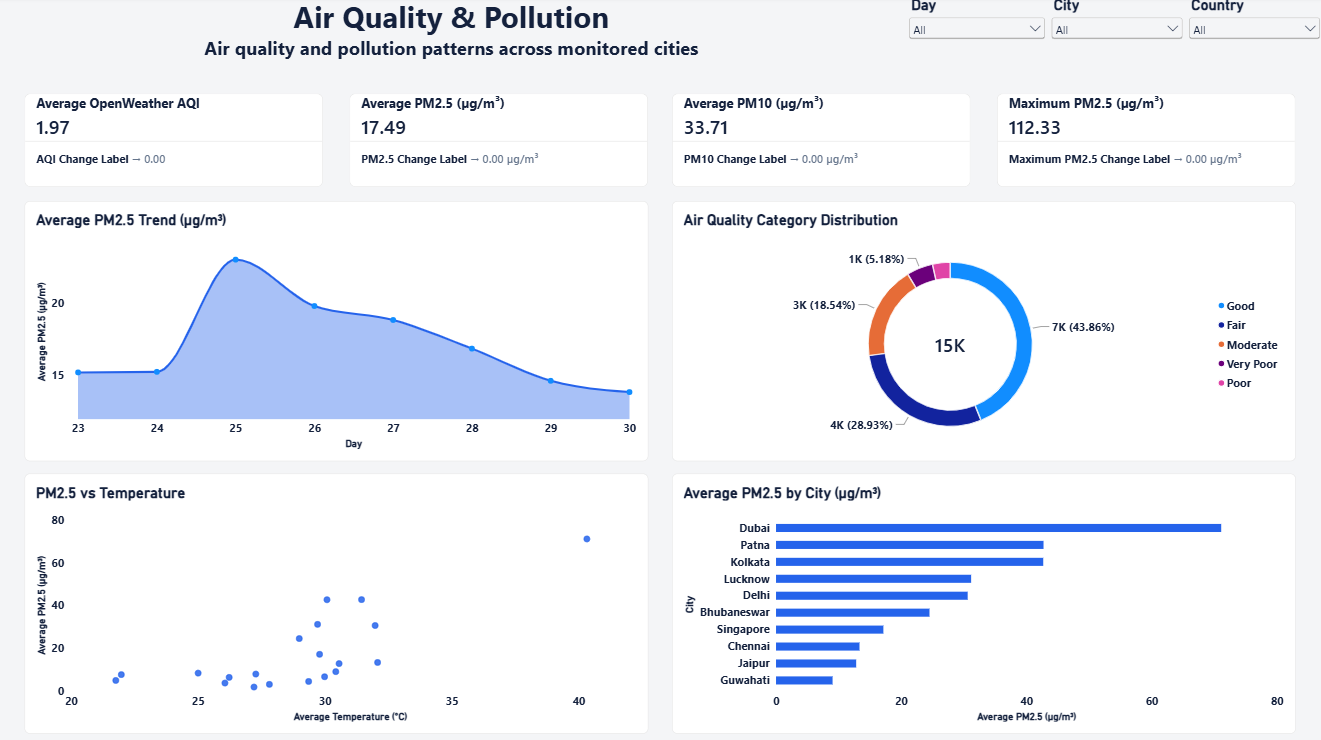

The dashboard page shown, as its layout file describes it:
{"tool":"powerbi","page":{"name":"Air Quality & Pollution","canvas":[1920,1080],"ordinal":2},"visuals":[{"type":"textbox","box":[0,0,1315.6,119.4],"z":0},{"type":"cardVisual","fields":{"Data":["measures table.Average AQI"]},"box":[39.8,141.2,432.5,135.7],"z":1000},{"type":"cardVisual","fields":{"Data":["measures table.Average PM2.5"]},"box":[510.3,141.2,432.5,135.7],"z":2000},{"type":"cardVisual","fields":{"Data":["measures table.Average PM10"]},"box":[977.2,141.2,432.5,135.7],"z":3000},{"type":"cardVisual","fields":{"Data":["measures table.Maximum PM2.5"]},"box":[1447.7,141.2,432.5,135.7],"z":4000},{"type":"lineChart","title":"Average PM2.5 Trend (µg/m³)","fields":{"Category":["gold dim_date.full_date.Variation.Date Hierarchy.Day"],"Y":["measures table.Average PM2.5"]},"box":[39.8,296.8,903,376.4],"z":5000},{"type":"clusteredBarChart","title":"Average PM2.5 by City (µg/m³)","fields":{"Category":["gold dim_city.city_name"],"Y":["measures table.Average PM2.5"]},"box":[977.2,691.3,903,376.4],"z":6000},{"type":"donutChart","title":"Air Quality Category Distribution","fields":{"Y":["measures table.AQI Category Observations"],"Category":["gold fact_environment.aqi_category"]},"box":[977.2,296.8,903,376.4],"z":7000},{"type":"scatterChart","title":"PM2.5 vs Temperature","fields":{"Y":["measures table.Average PM2.5"],"X":["measures table.Average Temperature (°C)"],"Category":["gold dim_city.city_name"]},"box":[39.8,691.3,903,376.4],"z":8000},{"type":"slicer","fields":{"Values":["gold dim_date.full_date.Variation.Date Hierarchy.Day"]},"box":[1315.6,0,206.3,119.4],"z":9000},{"type":"slicer","fields":{"Values":["gold dim_city.city_name"]},"box":[1521.9,0,199.1,119.4],"z":10000},{"type":"slicer","fields":{"Values":["gold dim_city.country_name"]},"box":[1721,0,199.1,119.4],"z":11000}]}

Visuals, with their boxes in screenshot pixels (x1, y1, x2, y2), scaled from the page's 1920x1080 canvas onto the 1321x740 screenshot:
textbox: rect(0, 0, 905, 82)
cardVisual - measures table.Average AQI: rect(27, 97, 325, 190)
cardVisual - measures table.Average PM2.5: rect(351, 97, 649, 190)
cardVisual - measures table.Average PM10: rect(672, 97, 970, 190)
cardVisual - measures table.Maximum PM2.5: rect(996, 97, 1294, 190)
"Average PM2.5 Trend (µg/m³)" lineChart: rect(27, 203, 649, 461)
"Average PM2.5 by City (µg/m³)" clusteredBarChart: rect(672, 474, 1294, 732)
"Air Quality Category Distribution" donutChart: rect(672, 203, 1294, 461)
"PM2.5 vs Temperature" scatterChart: rect(27, 474, 649, 732)
slicer - gold dim_date.full_date.Variation.Date Hierarchy.Day: rect(905, 0, 1047, 82)
slicer - gold dim_city.city_name: rect(1047, 0, 1184, 82)
slicer - gold dim_city.country_name: rect(1184, 0, 1320, 82)
